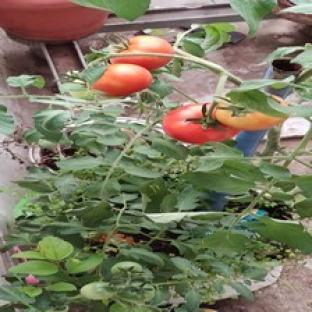Tomato: (162, 104, 239, 144), (111, 35, 174, 69), (92, 65, 153, 96), (214, 104, 286, 130), (109, 233, 135, 243)
